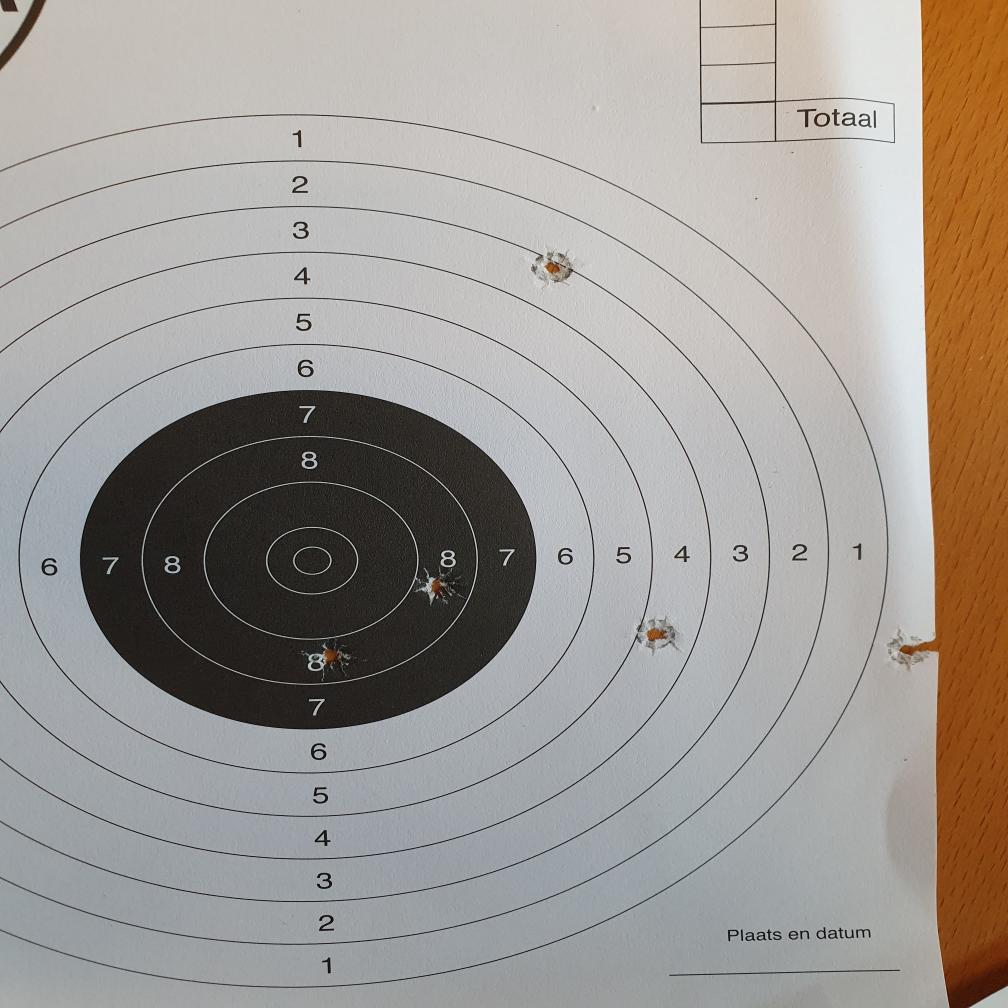0: (877, 628, 929, 668)
3: (521, 250, 578, 288)
5: (626, 612, 688, 652)
8: (413, 562, 468, 608), (303, 639, 353, 675)
Target: (0, 115, 892, 988)
black_contour: (78, 389, 538, 731)
